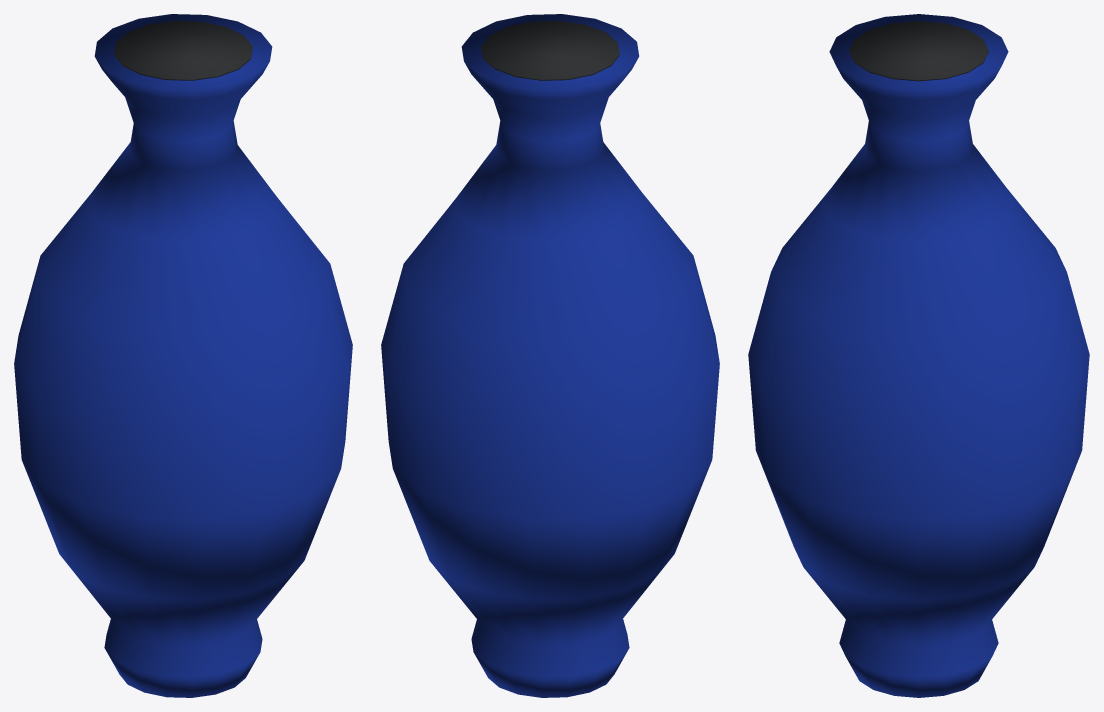
File: VasoAlto.fbx
3 renders of one model, left to right at view 1: azimuth 30°, elevation 25°; view 2: azimuth 150°, elevation 25°; view 3: azimuth 270°, elevation 25°, orthographic.
Parts seen in each view (by area): view 1: VasoAlto; view 2: VasoAlto; view 3: VasoAlto.
Boxes of the visible parts, x1,y1,x2,y2 form: VasoAlto: [14, 14, 352, 697]; VasoAlto: [381, 14, 719, 697]; VasoAlto: [748, 14, 1089, 697].
Size of the model in its own units: 0.45 by 0.902 by 0.45.
